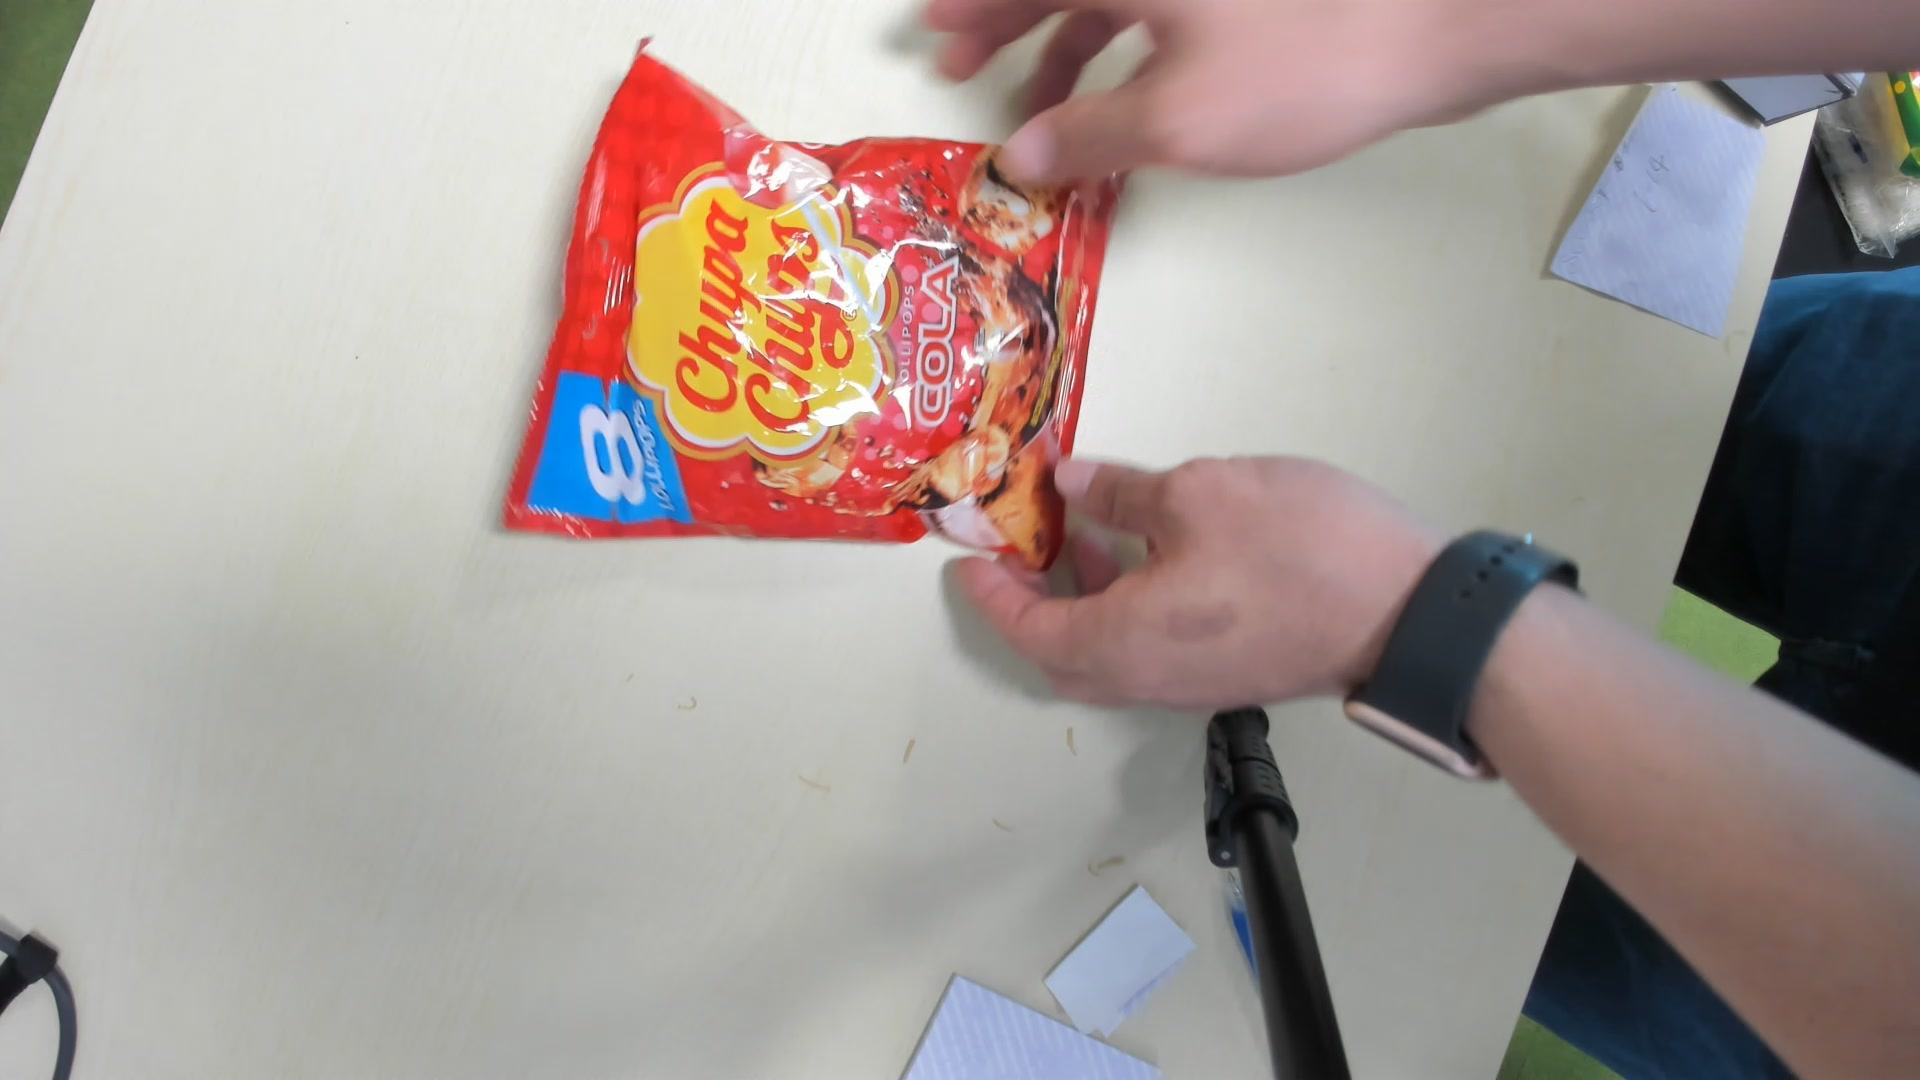SweetsChocolatesOthers_0-99g_NonHalal_Nonhealthy: (489, 58, 1130, 572)
